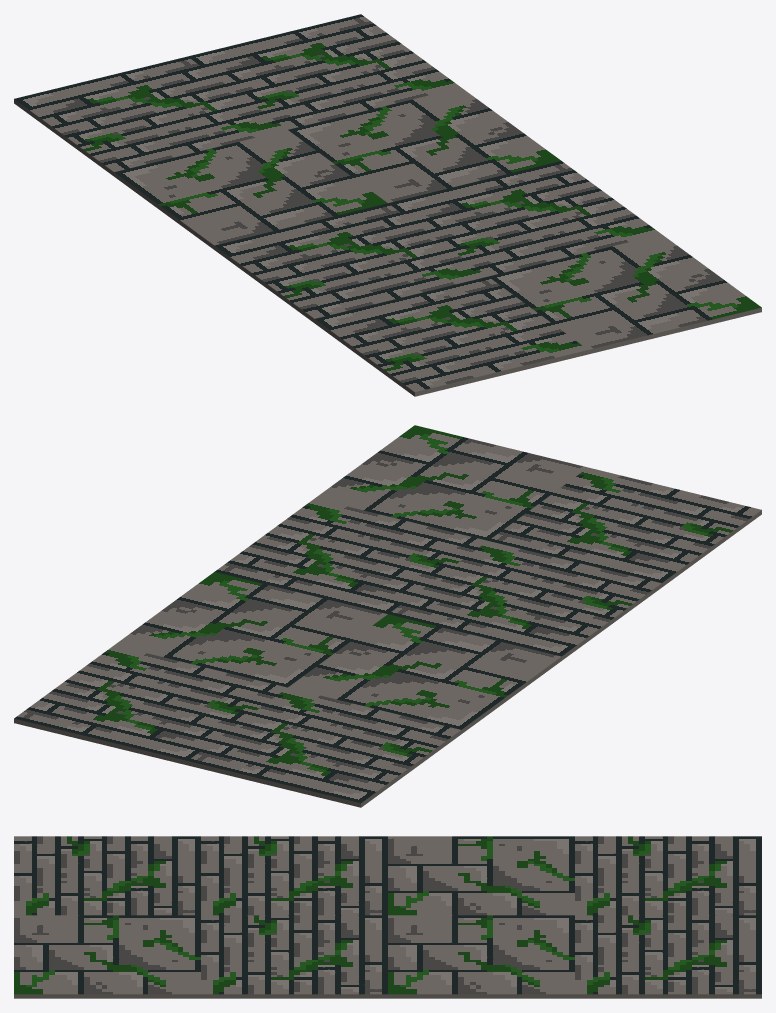
The model's file is alleyway road.glb.
The picture shows the model from 3 angles, top to bottom: view 1: azimuth 30°, elevation 25°; view 2: azimuth 150°, elevation 25°; view 3: azimuth 270°, elevation 25°; orthographic projection. The views are drawn at different scales.
Visible parts, largest first — view 1: cube (×8); view 2: cube (×8); view 3: cube (×8).
Part boxes in pixels (x1=…): cube (×8): x1=14, y1=14, x2=761, y2=396; cube (×8): x1=14, y1=425, x2=761, y2=807; cube (×8): x1=14, y1=836, x2=761, y2=998.
Bounding box in the file's own units: 0.25 × 0.00313 × 0.5.
Materials: 2 (2 with a texture image).
